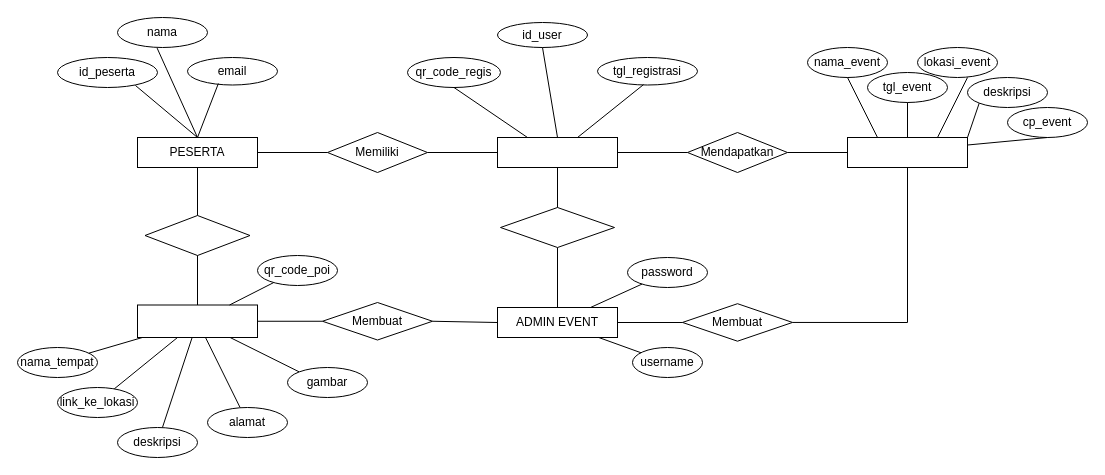
Image size: 1105x475. Some labels were removed from this diagram. The centre of each missing label's shape, as x and y in pixels:
"EVENT" goes at [907,152].
"Memberikan" goes at [557,227].
"Mengunjungi" goes at [197,235].
"POI (Point of Interest)" goes at [197,321].
"REGISTRASI" goes at [557,152].
